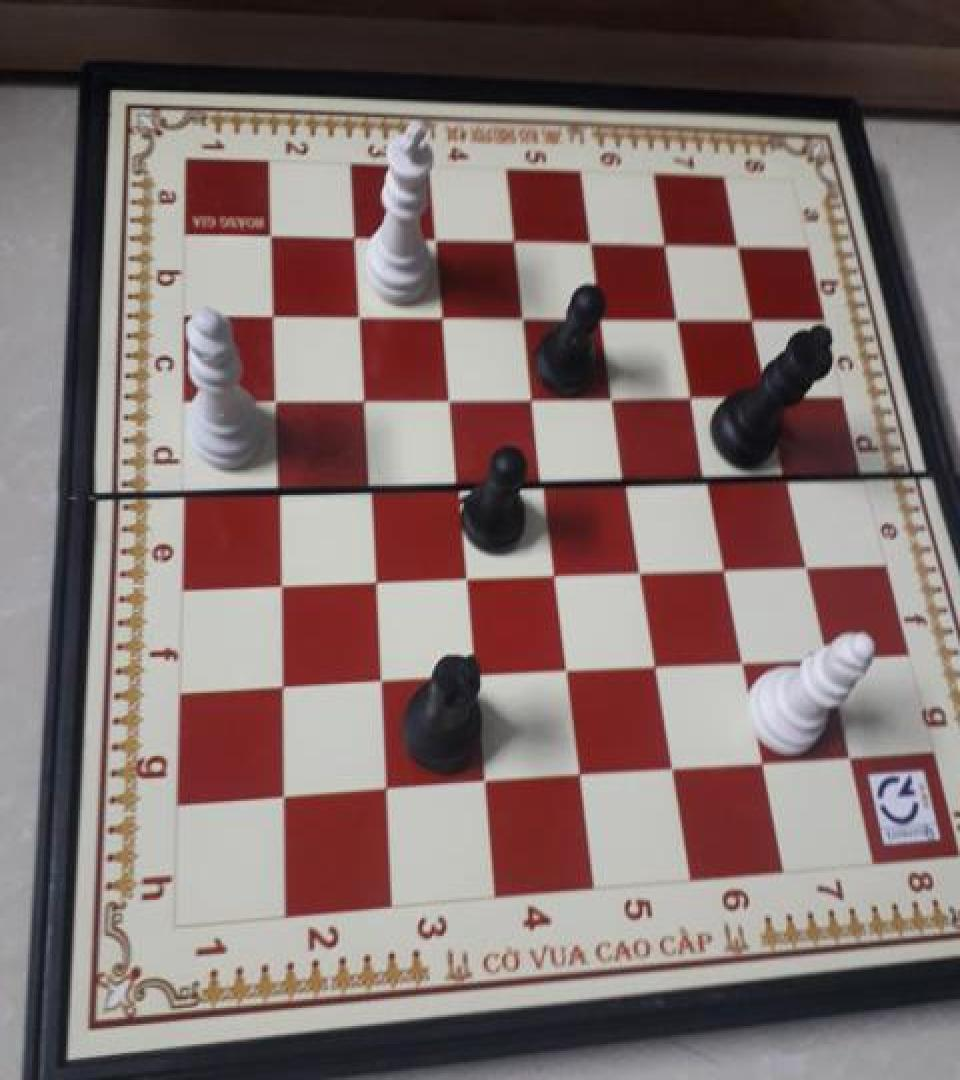xcorner: (707, 543, 739, 580), (456, 653, 488, 690), (831, 732, 863, 769), (720, 225, 752, 261), (647, 224, 679, 260), (572, 223, 604, 259), (496, 223, 528, 259), (418, 222, 450, 258), (338, 220, 370, 256), (255, 220, 287, 256), (735, 296, 767, 332), (661, 296, 693, 332), (584, 297, 616, 333), (505, 297, 537, 333), (425, 297, 457, 333), (342, 297, 374, 333), (257, 297, 289, 333), (752, 372, 784, 408), (675, 374, 707, 410), (596, 374, 628, 410), (515, 376, 547, 412), (432, 377, 464, 413), (346, 378, 378, 414), (258, 379, 290, 415), (770, 454, 802, 490), (690, 456, 722, 492), (609, 458, 641, 494), (525, 460, 557, 496), (439, 462, 471, 498), (351, 466, 383, 502), (260, 468, 292, 504), (789, 540, 821, 576), (623, 547, 655, 583), (536, 551, 568, 587), (448, 554, 480, 590), (356, 558, 388, 594), (262, 562, 294, 598), (809, 634, 841, 670), (725, 638, 757, 674), (638, 642, 670, 678), (548, 648, 580, 684), (362, 659, 394, 695), (264, 665, 296, 701), (744, 739, 776, 775), (654, 746, 686, 782), (561, 752, 593, 788), (466, 760, 498, 796), (368, 767, 400, 803), (266, 775, 298, 811)
